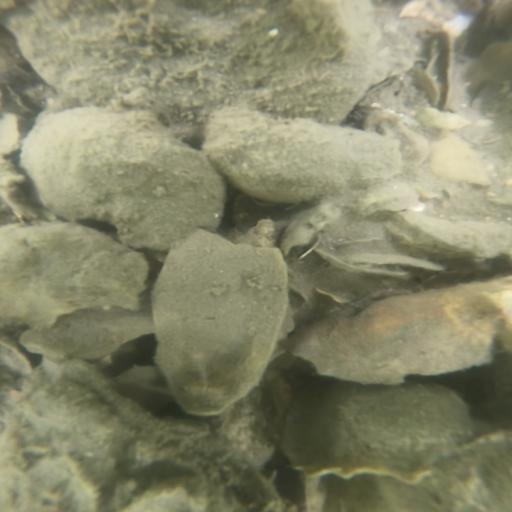Oyster-Closed: (1, 1, 385, 138), (21, 108, 231, 252), (150, 230, 290, 424), (277, 373, 477, 483), (202, 106, 409, 202), (1, 220, 145, 332), (289, 1, 361, 60), (425, 135, 491, 193)
Oyster-Open: (419, 32, 461, 111)
